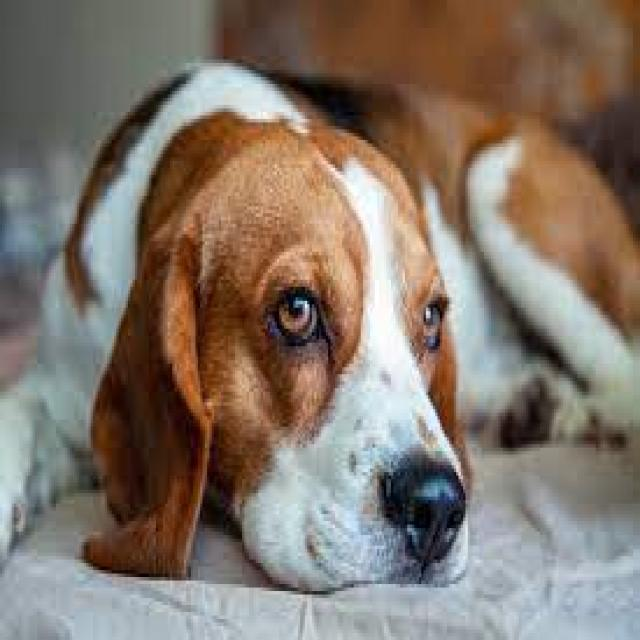Dog: (5, 55, 640, 600)
